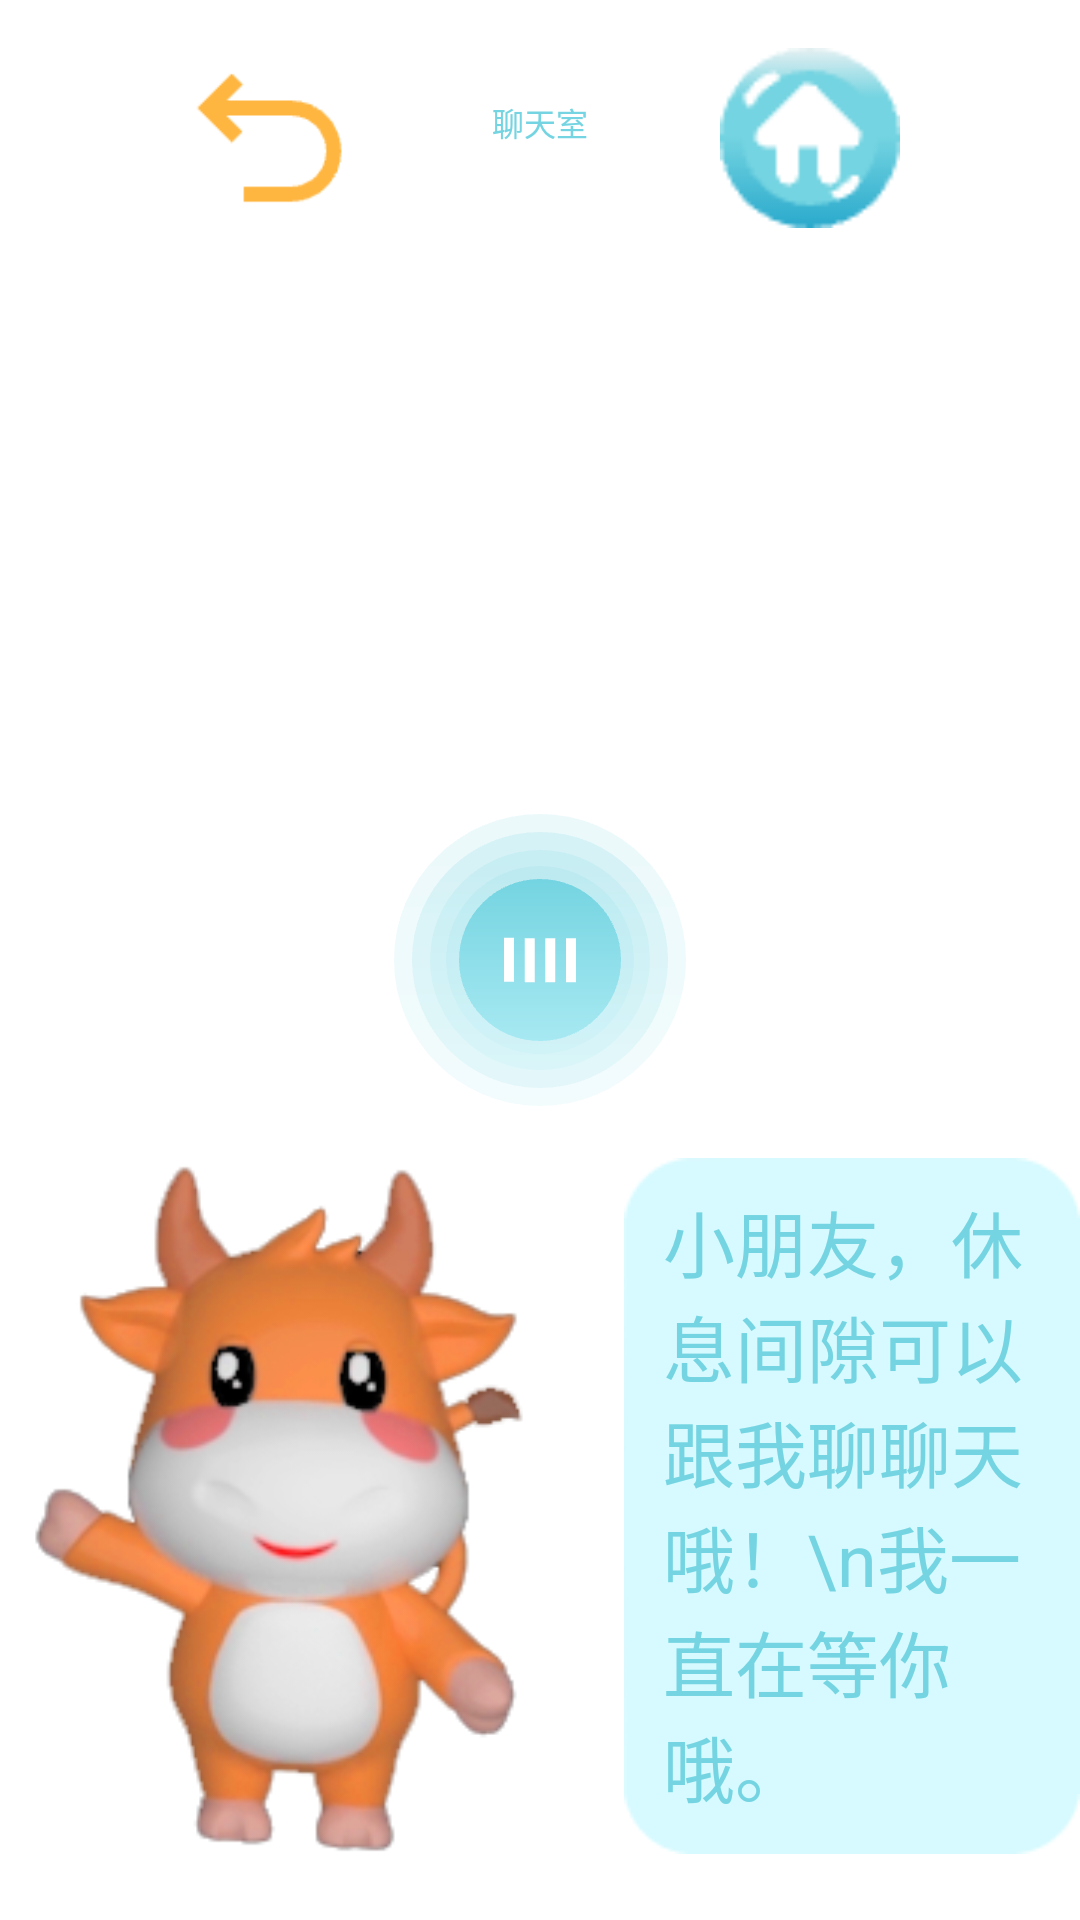

Screen size 1080w x 1920h. Icon name, then its center in pixels as [x,y]:
back: [269,138]
home: [810,138]
voice: [540,960]
